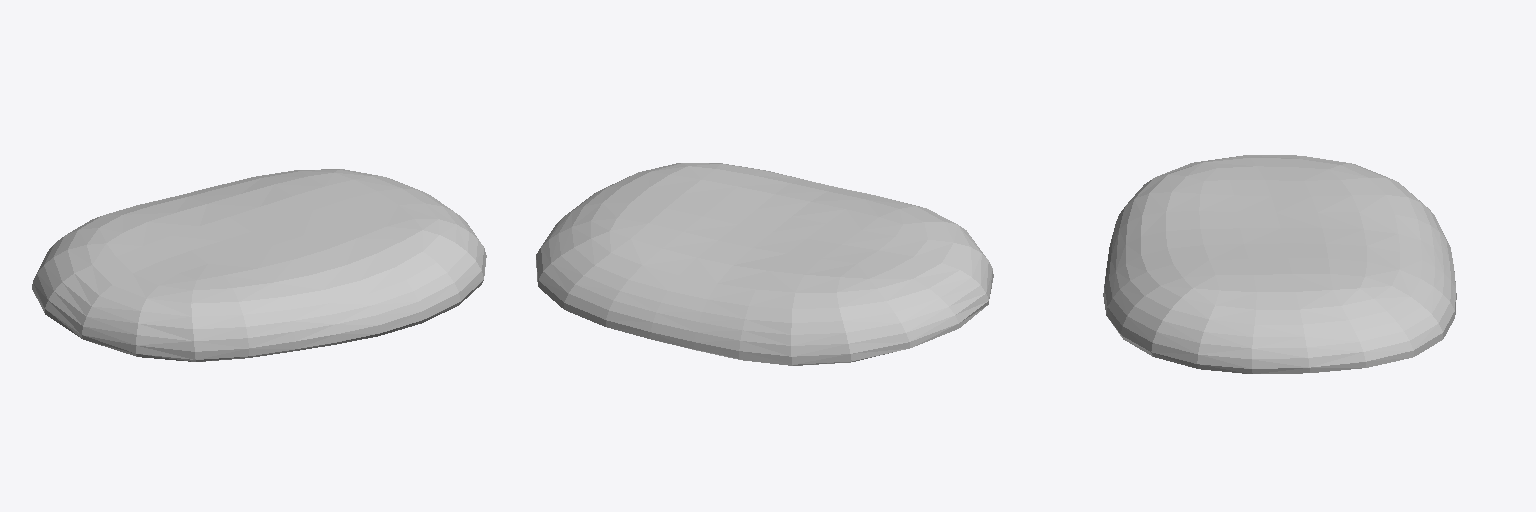
Rendered from rock-4-grass.obj.
3 views of the same model, side by side, from view 1: azimuth 30°, elevation 25°; view 2: azimuth 150°, elevation 25°; view 3: azimuth 270°, elevation 25° (orthographic).
Parts seen in each view (by area): view 1: Group26535; view 2: Group26535; view 3: Group26535.
Boxes of the visible parts, box(x1,y1,x2,y2) form: Group26535: box(32, 169, 486, 361); Group26535: box(536, 163, 993, 364); Group26535: box(1103, 155, 1456, 373).
Bounding box in the file's own units: 1.42 × 0.195 × 1.08.